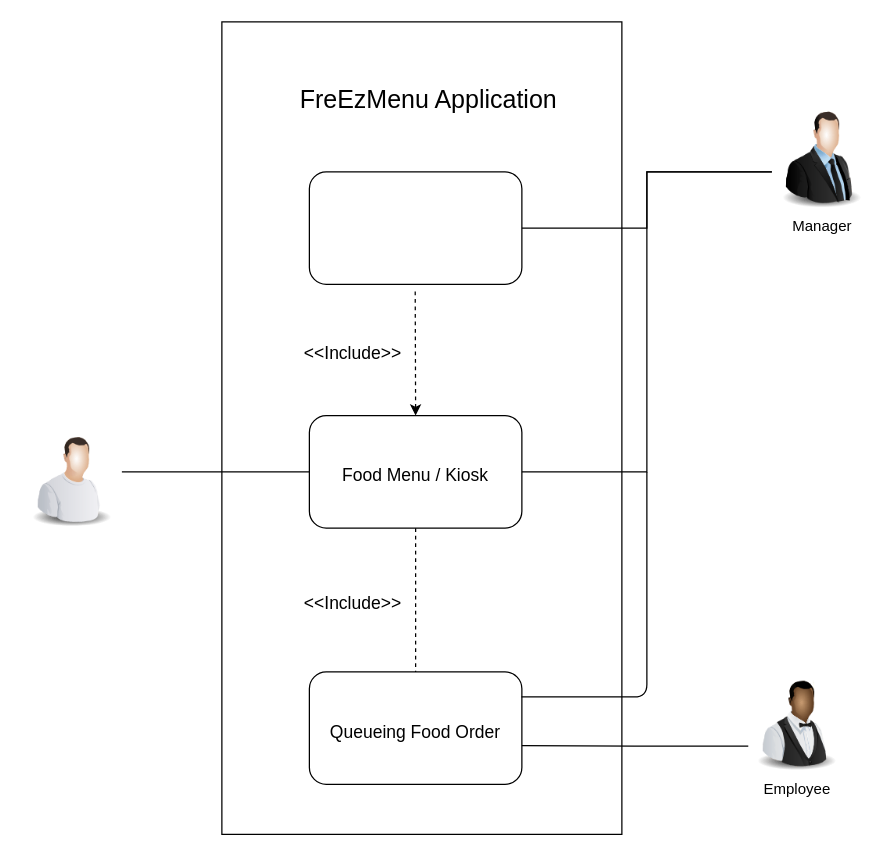
This 893x856 diagram has some shape labels left out. The centre of each missing label's shape, as x and y in pixels:
"Customers" belongs at [71,478].
"Customizing Food Menu" belongs at [415,227].
